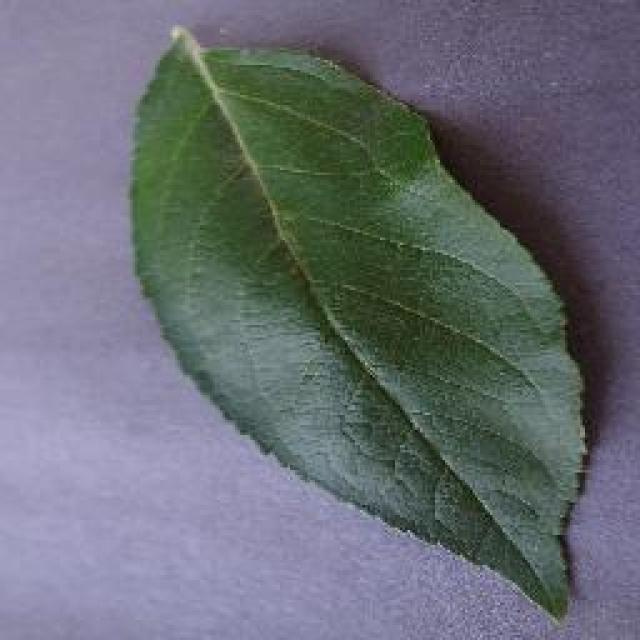apple healthy: (125, 22, 593, 622)
